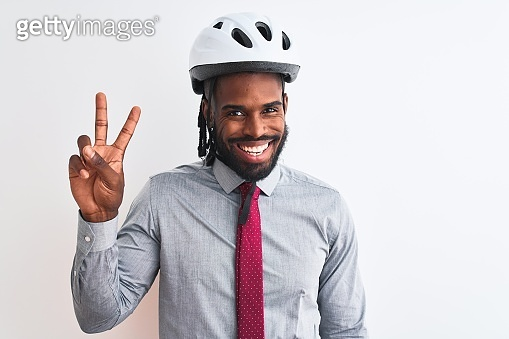helmet: (188, 12, 300, 179)
